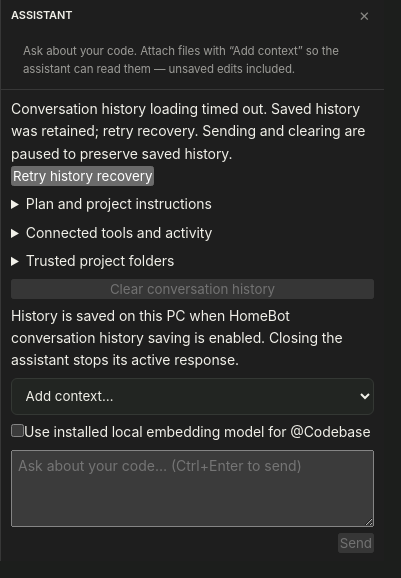
Test: expired hydration can Retry and its late original response cannot replace the recovered transcript
expect the message shows "timed out": met, box [11,100,360,139]
Click the button "Retry history recovery" at (83, 176), box [11,166,154,186]
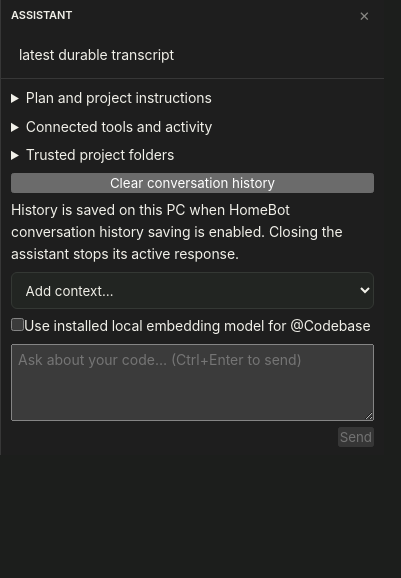
expect the element showing "latest durable transcript" does not show "expired old response": met, box [19,46,174,63]
expect the element showing "latest durable transcript" is shown: met, box [19,46,174,63]
Type "recovered history question" into the text box named "Ask the assistant" at (192, 382), box [11,344,374,421]
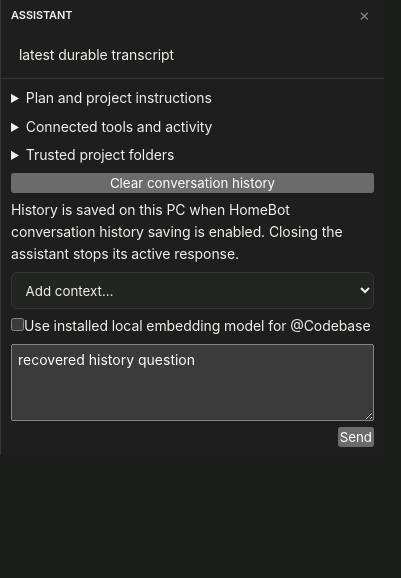
expect the button "Send" is enabled: met, box [338,427,374,447]
